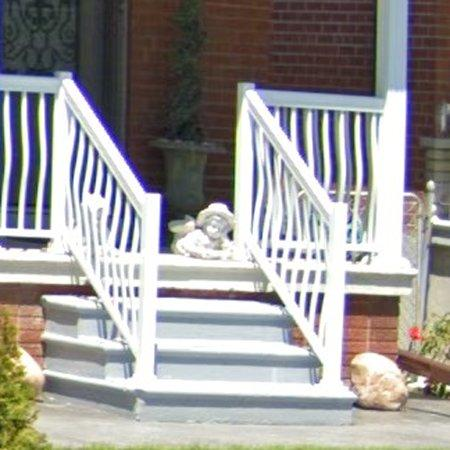stairs: (41, 295, 354, 424)
